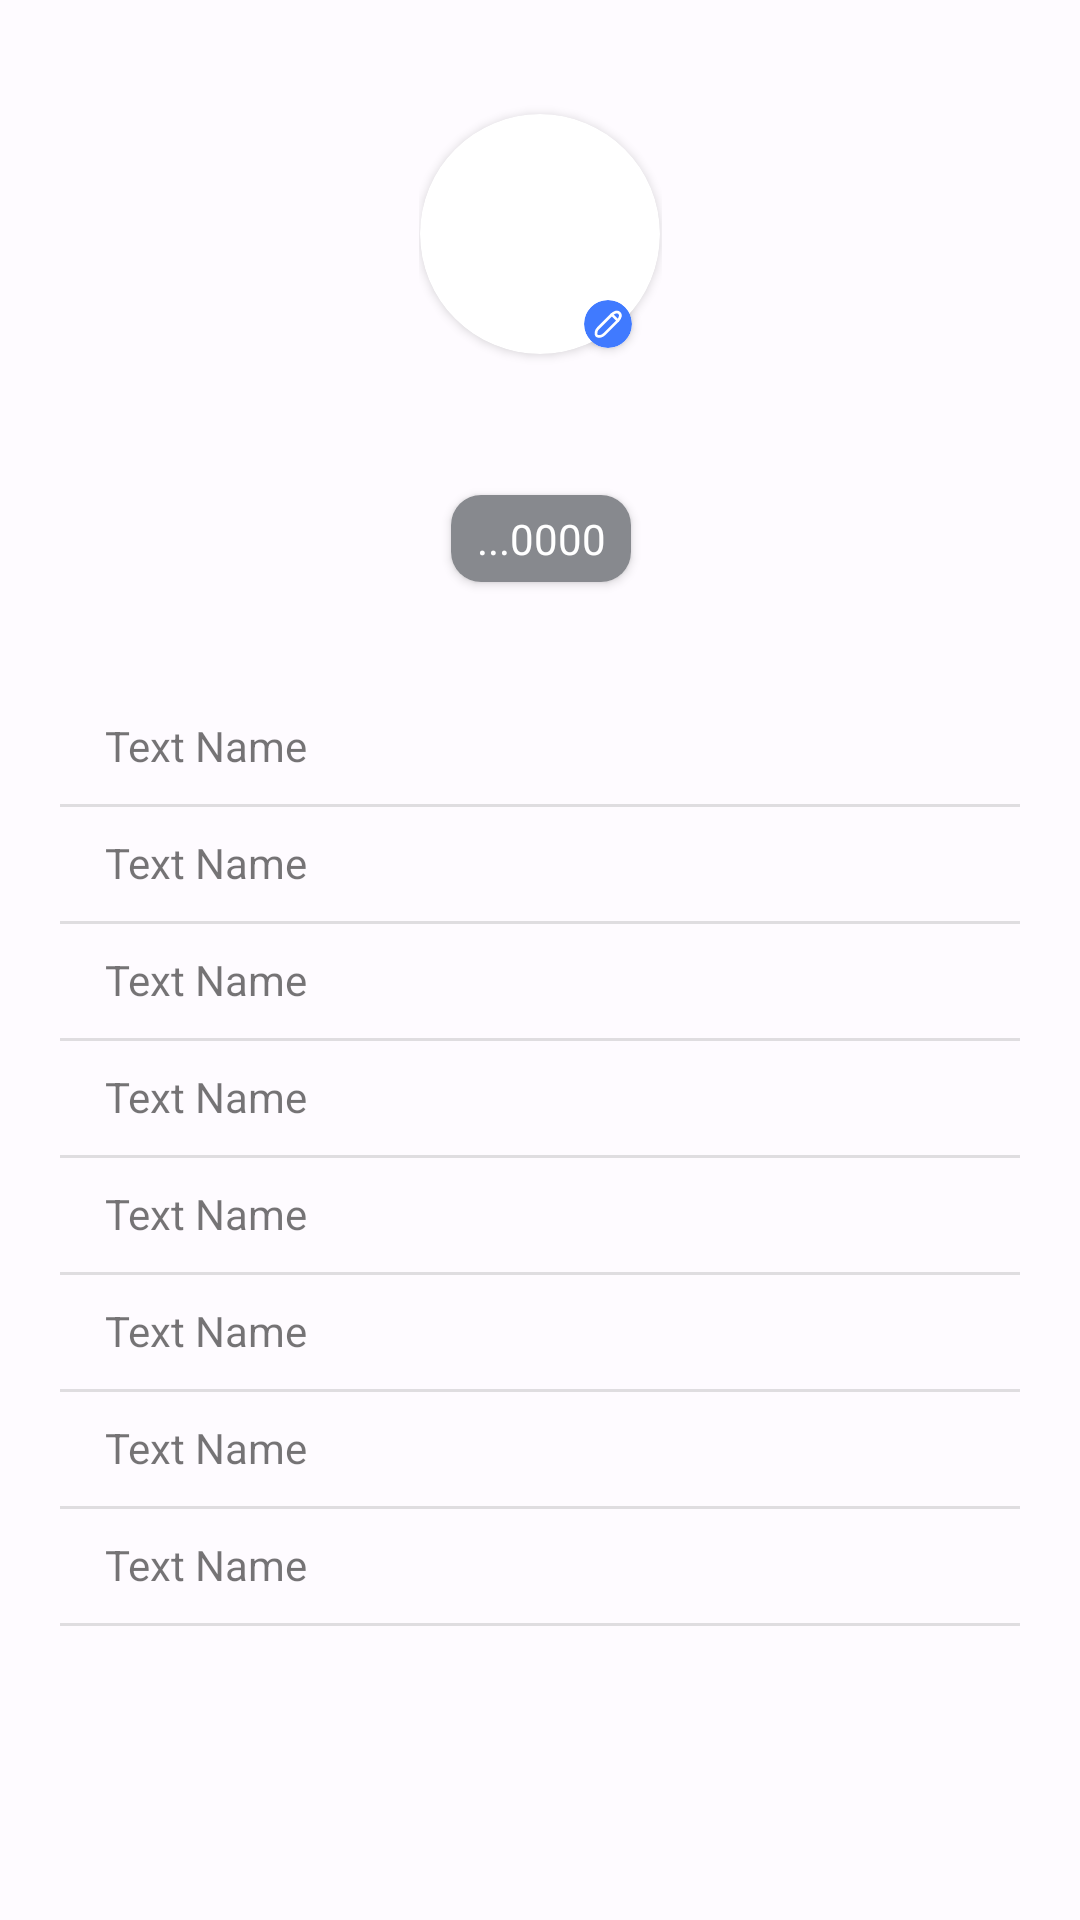

Screen size 1080px×1920px. Icon name, then its box in pixels as (x1=x1, y1=y1, x2=x2, y2=y2):
edit image: (x1=584, y1=300, x2=632, y2=348)
